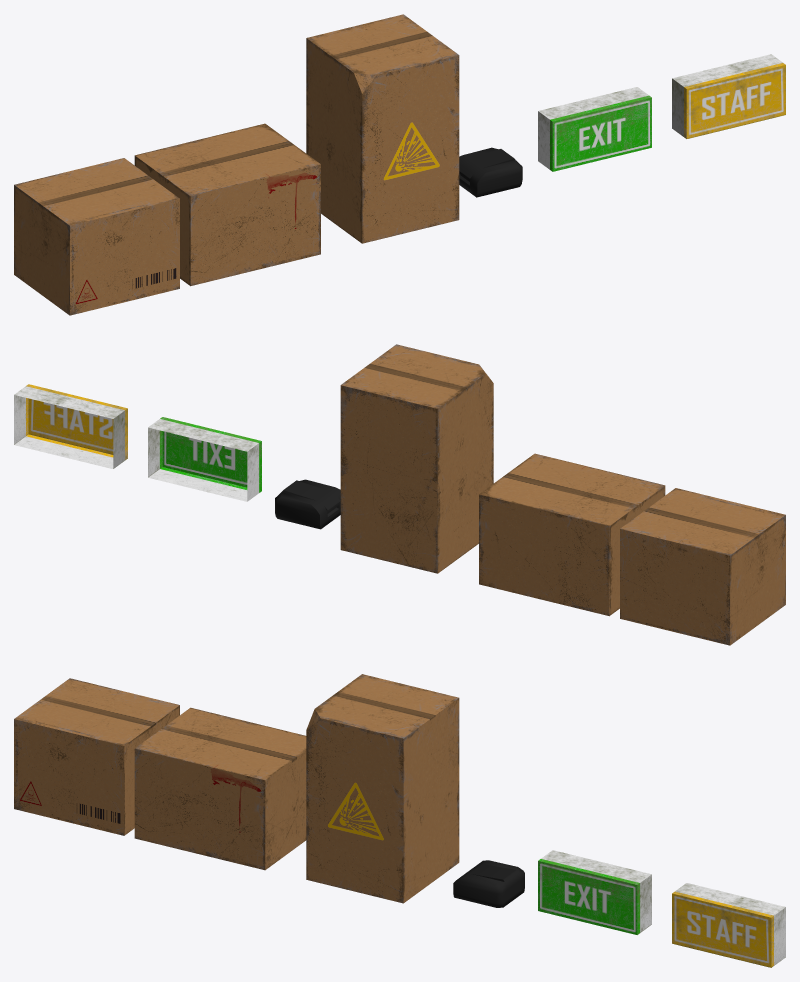
The model's file is asset_new.fbx.
3 renders of one model, top to bottom at view 1: azimuth 30°, elevation 25°; view 2: azimuth 150°, elevation 25°; view 3: azimuth 330°, elevation 25°, orthographic.
Parts seen in each view (by area): view 1: BoxType3_low, BoxType1_low, BoxType2_low, Cube.540, Cube.539, printerlabel_low; view 2: BoxType3_low, BoxType1_low, BoxType2_low, Cube.540, Cube.539, printerlabel_low; view 3: BoxType3_low, BoxType2_low, BoxType1_low, Cube.540, Cube.539, printerlabel_low.
Part boxes in pixels (x1,y1,x2,y2): BoxType3_low: (306,14,459,243); BoxType1_low: (14,158,179,315); BoxType2_low: (134,123,320,286); Cube.540: (672,54,785,138); Cube.539: (538,87,651,171); printerlabel_low: (459,147,522,197); BoxType3_low: (340,344,493,573); BoxType1_low: (620,488,785,645); BoxType2_low: (479,453,665,616); Cube.540: (14,384,127,468); Cube.539: (148,417,261,501); printerlabel_low: (275,479,340,529); BoxType3_low: (306,674,459,903); BoxType2_low: (134,707,306,870); BoxType1_low: (14,678,179,835); Cube.540: (672,883,785,967); Cube.539: (538,850,651,934); printerlabel_low: (453,860,524,907).
Bounding box in the file's own units: 569 × 122 × 74.73.
